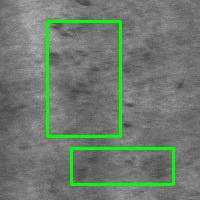rolled-in_scale: (47, 22, 120, 136), (71, 148, 173, 184)
